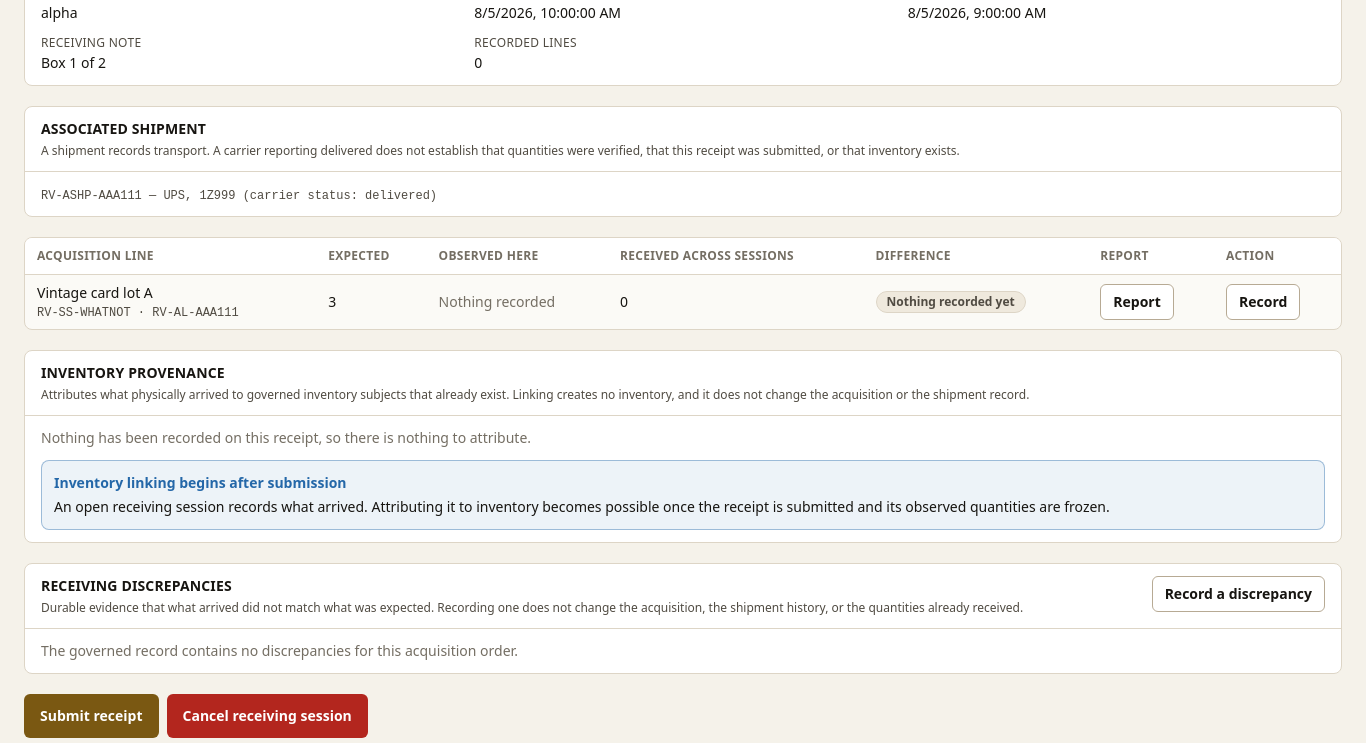
Test: cancelling a receiving session › sends the reason and reports the outcome
The width and height of the screenshot is (1366, 743).
(page scrolled)
Expected: the text "Vintage card lot A" is shown, [37, 283, 153, 302]
Step 1. Click the button "Cancel receiving session" → (267, 716), box [166, 694, 368, 738]
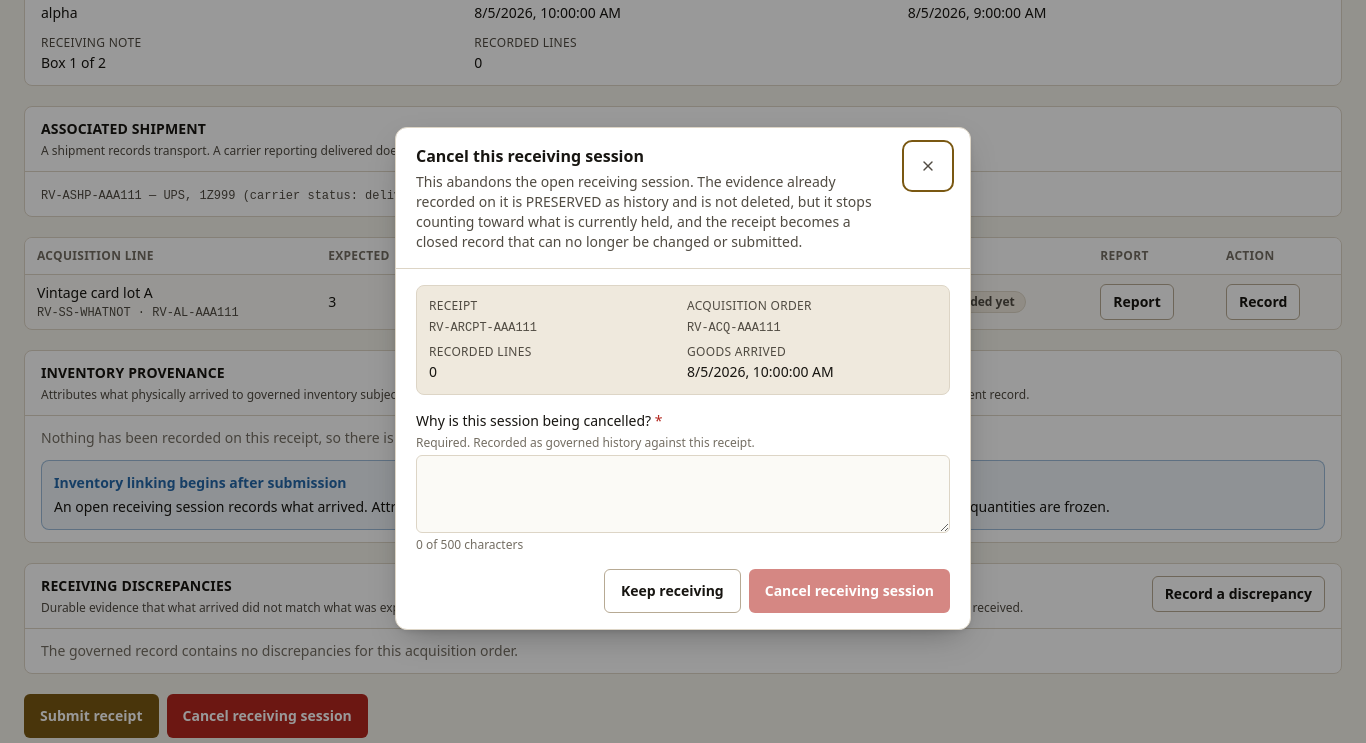
Step 2. Type "Wrong box opened" into the text box labelled "Why is this session being cancelled? *" → (683, 494), box [416, 454, 950, 532]
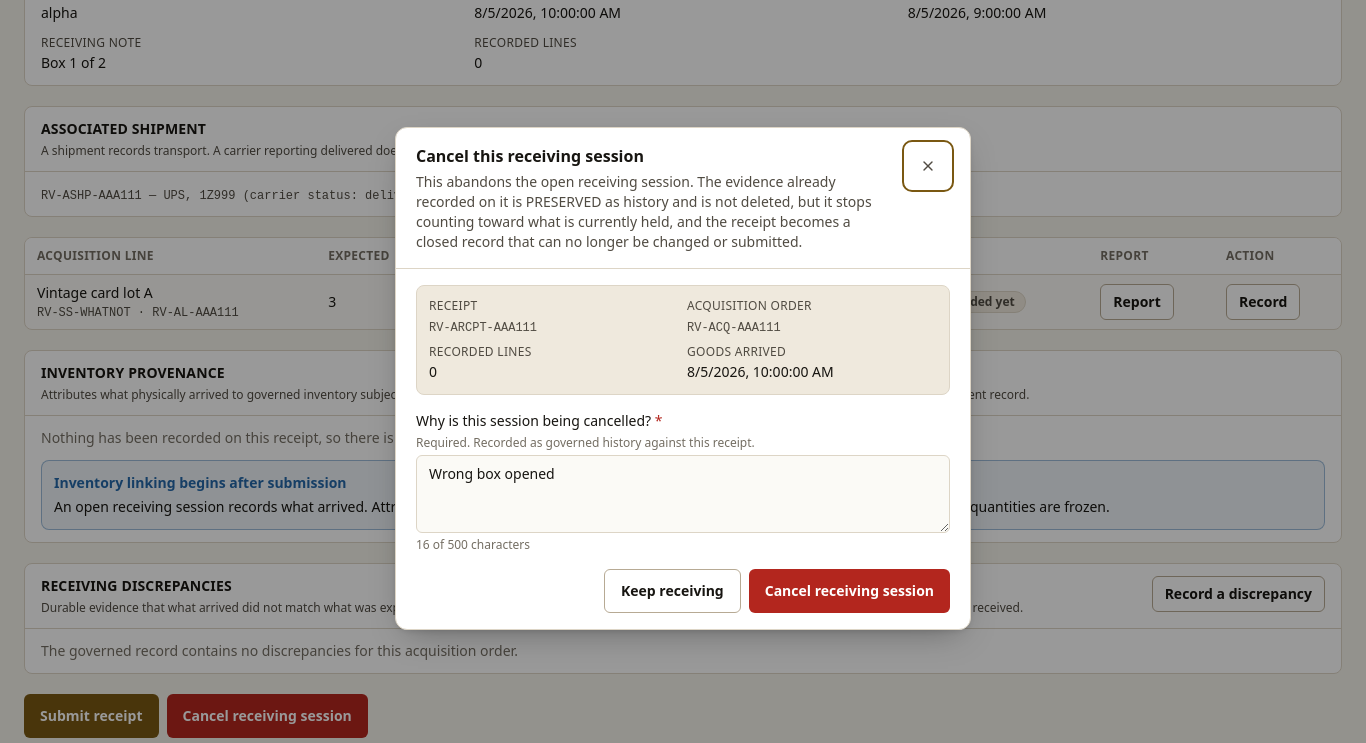
Step 3. Click the button "Cancel receiving session" → (849, 590), box [749, 568, 950, 612]
(page scrolled)
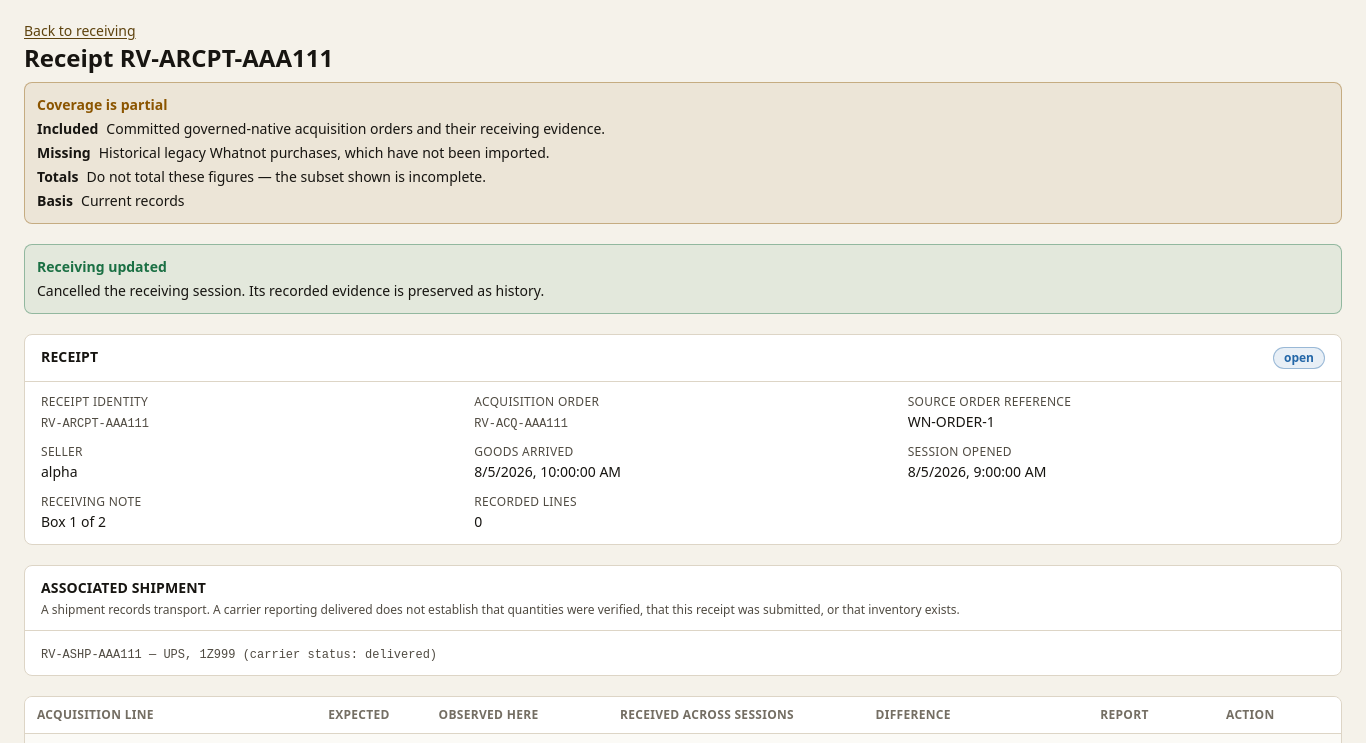
Expected: the text "preserved as history" is shown, [37, 281, 544, 300]
